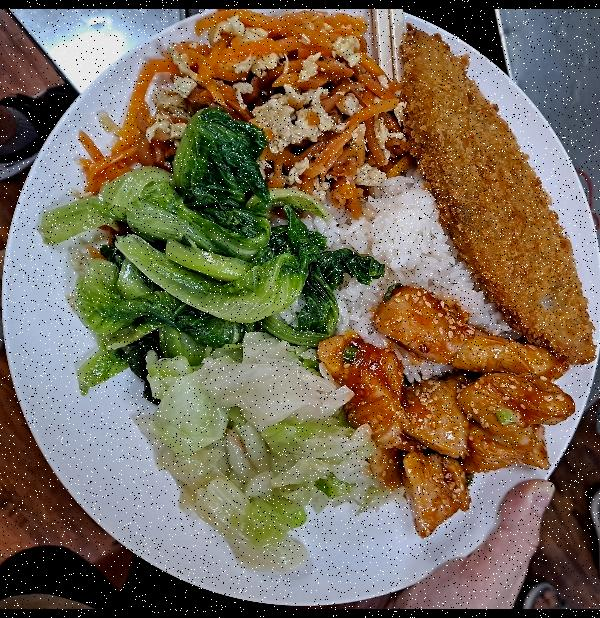fried cod steak: (390, 19, 600, 369)
plate: (0, 9, 600, 606)
side dish: (59, 112, 349, 362), (139, 343, 373, 580), (123, 11, 407, 203)
spicy chicken: (322, 286, 576, 534)
white rice: (309, 167, 526, 373)
